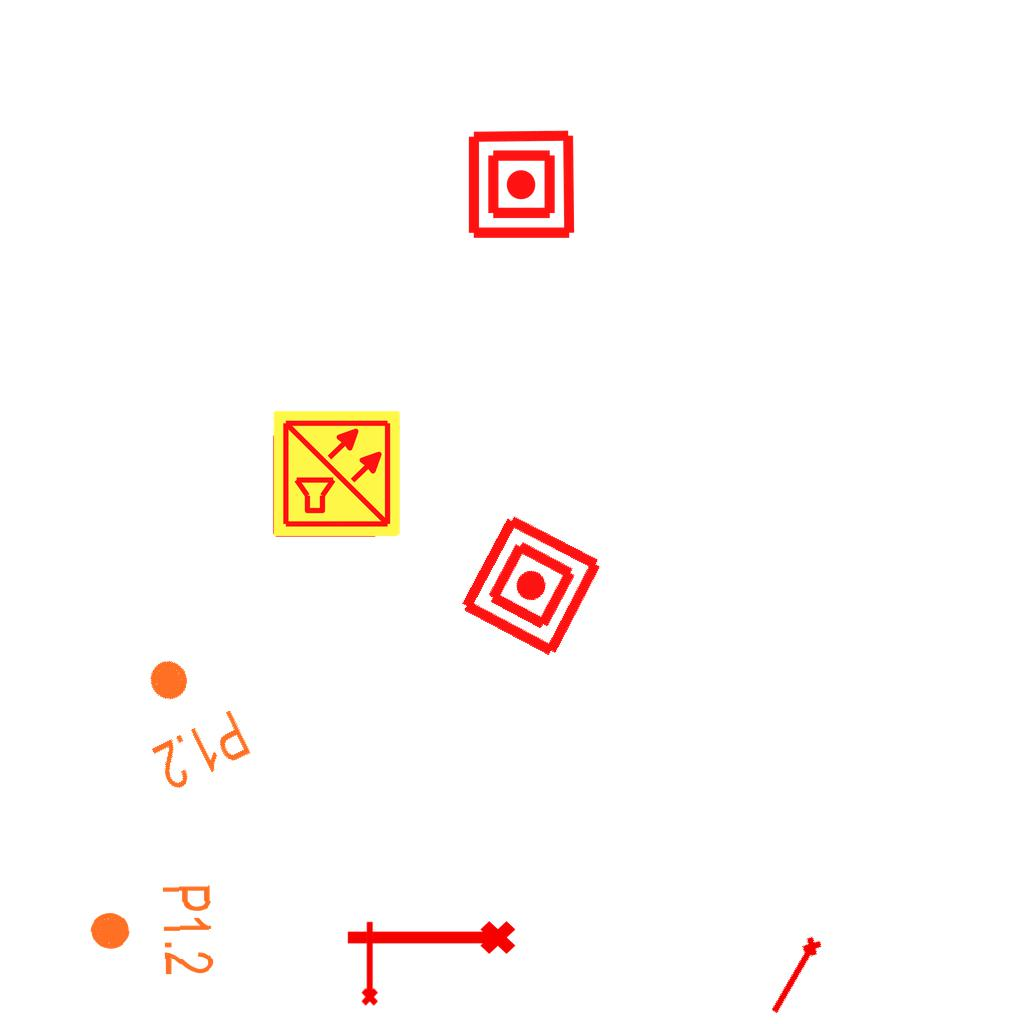ASR_Ansaugoeffnung: (342, 917, 518, 963), (764, 932, 828, 1021), (357, 919, 380, 1007)
Downlight_LED_Einbauleuchten_Flur: (115, 640, 256, 796), (85, 882, 218, 980)
NAM-Nichtautomatischer_Melder: (455, 509, 608, 662), (465, 128, 578, 241)
OKW_Multisensormelder_(Kombination_optischer_Rauch-Kahlenmonoxid_Waerme-Melder): (271, 408, 403, 540)
